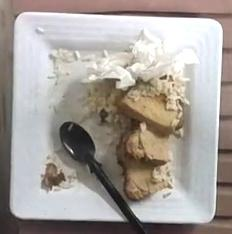pork: (116, 80, 182, 200)
rice: (149, 72, 190, 111)
